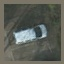car: (11, 23, 48, 46)
